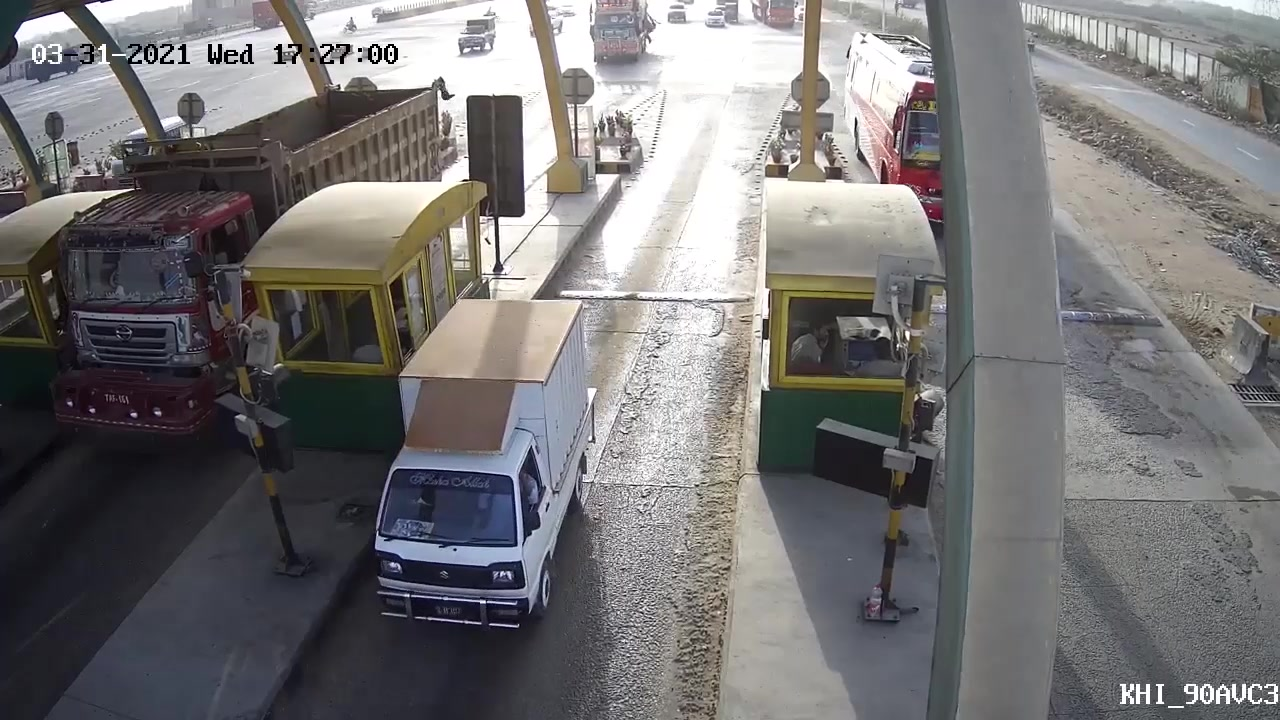F1: (365, 300, 590, 643)
